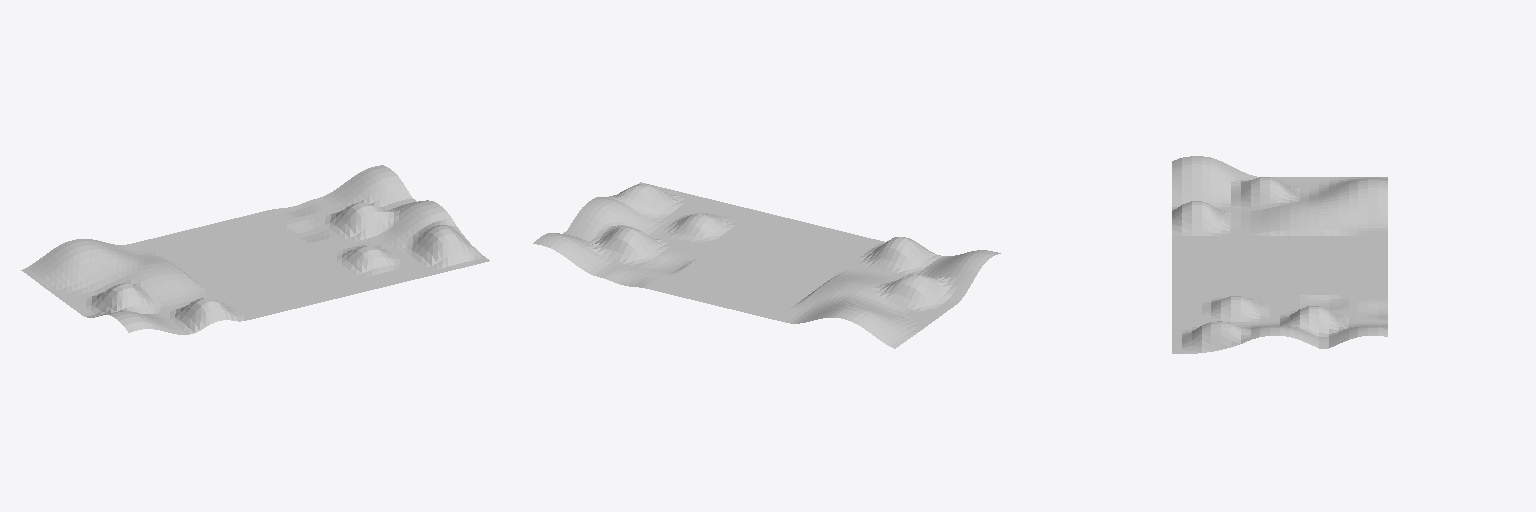
File: Felder Fern.obj
3 views of the same model, side by side, from view 1: azimuth 30°, elevation 25°; view 2: azimuth 150°, elevation 25°; view 3: azimuth 270°, elevation 25° (orthographic).
Visible parts, largest first — view 1: Felder.001; view 2: Felder.001; view 3: Felder.001.
Boxes of the visible parts, <box> form: Felder.001: <box>21,165,489,334</box>; Felder.001: <box>533,182,1000,348</box>; Felder.001: <box>1172,156,1387,353</box>.
Size of the model in its own units: 1.94 by 0.1234 by 1.